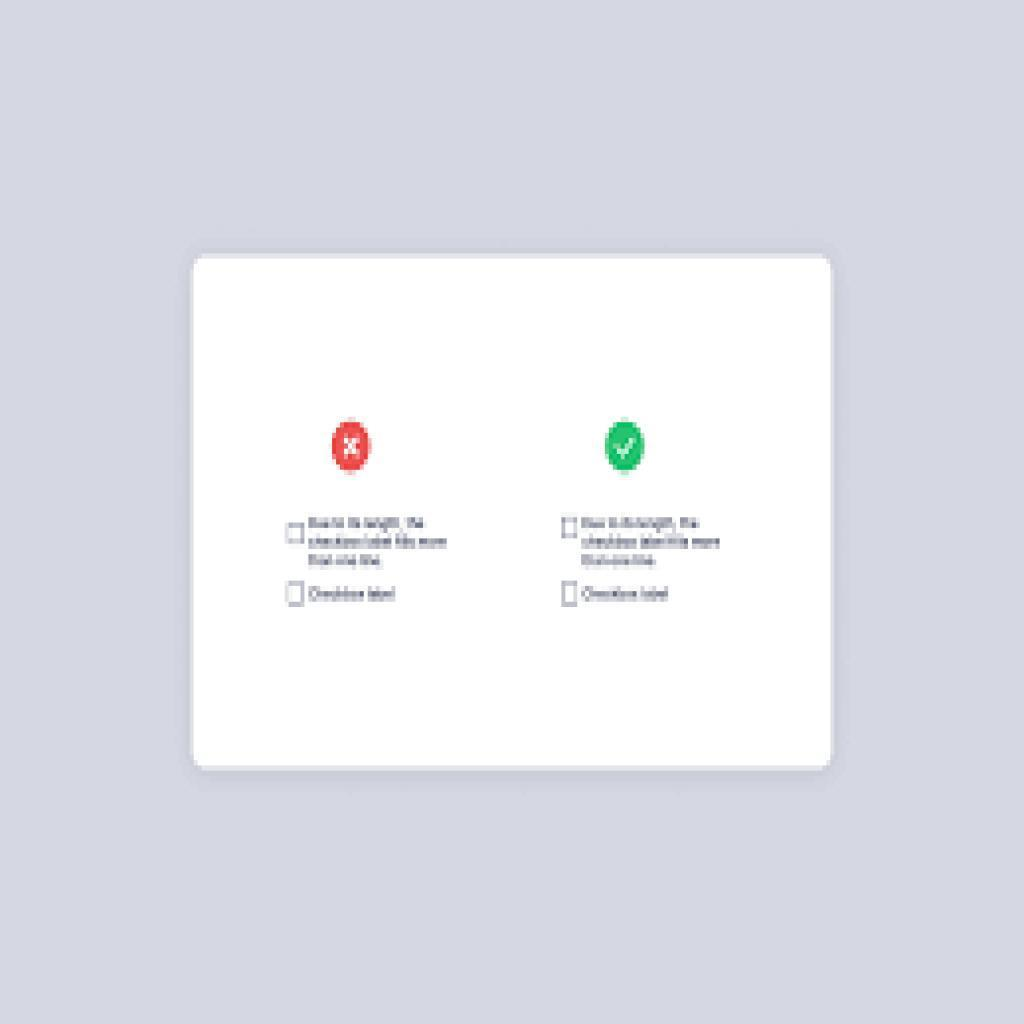checkbox: (331, 418, 373, 476), (604, 421, 647, 476), (285, 580, 306, 609), (561, 581, 578, 608), (286, 523, 306, 545), (559, 517, 578, 540)
